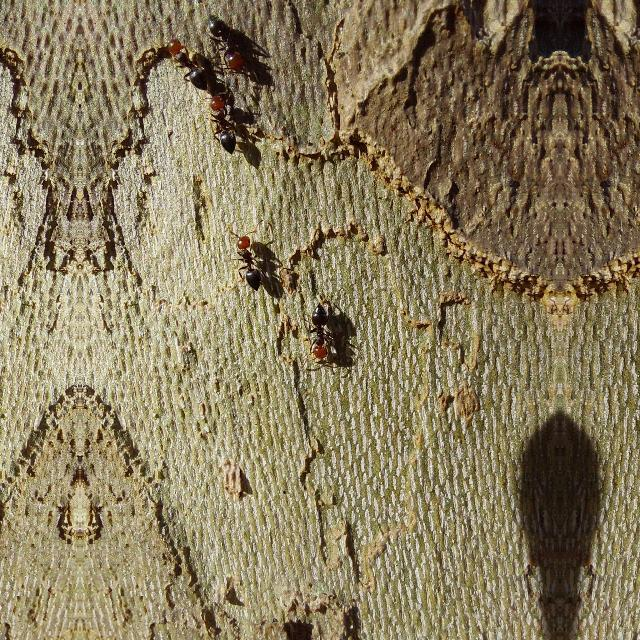Crematogaster: (202, 12, 252, 76), (154, 37, 210, 84), (304, 297, 334, 371), (230, 223, 262, 290), (204, 96, 240, 154)
